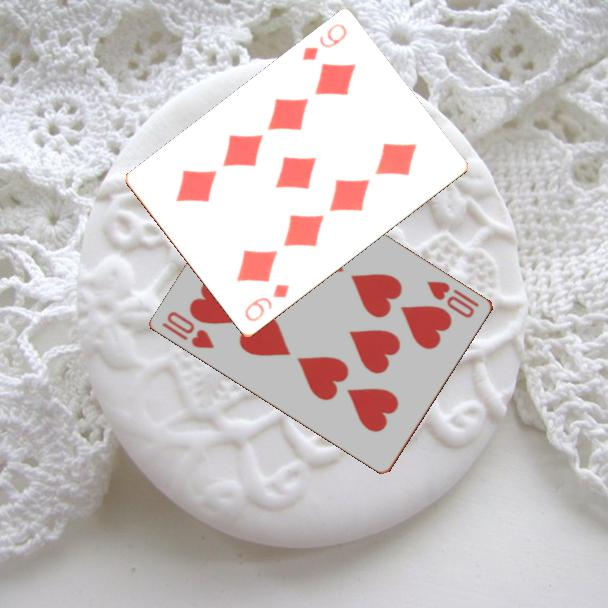d09: (298, 20, 350, 64), (241, 281, 292, 325)
h10: (159, 307, 217, 352), (423, 277, 482, 321)
